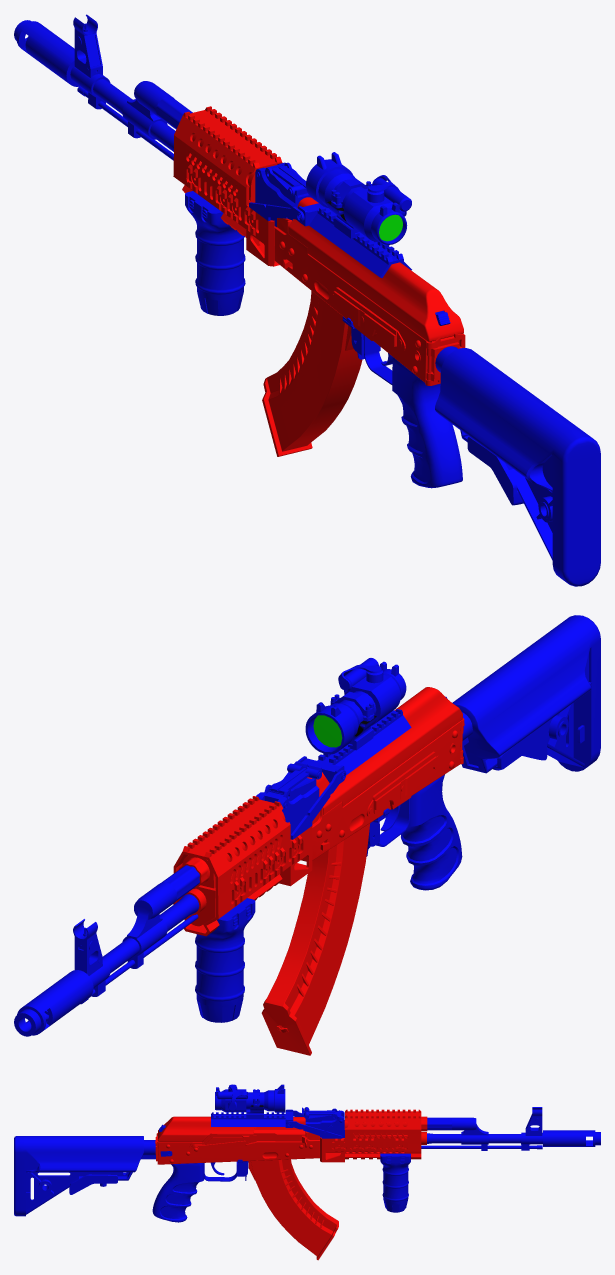
Rendered from Rifle 1.fbx.
The picture shows the model from 3 angles, top to bottom: view 1: azimuth 30°, elevation 25°; view 2: azimuth 150°, elevation 25°; view 3: azimuth 270°, elevation 25°; orthographic projection. The views are drawn at different scales.
Visible parts, largest first — view 1: Stock_Main1, Magazine1, Cage, Receiver_Cover, Main_Grip, Foregrip_Main, Main_Receiver2, Scope, Barrel_Upper, Muzzle, Scope_Holder, Ironsight_Front (+5 smaller); view 2: Stock_Main1, Magazine1, Cage, Foregrip_Main, Receiver_Cover, Main_Grip, Main_Receiver2, Scope, Barrel_Upper, Muzzle, Scope_Holder, Ironsight_Front (+12 smaller); view 3: Stock_Main1, Magazine1, Cage, Main_Receiver2, Main_Grip, Receiver_Cover, Foregrip_Main, Barrel_Upper, Scope, Muzzle, Stock_Separator, Scope_Holder (+12 smaller).
Part boxes in pixels (box(x1,y1,x2,y2)): Stock_Main1: box(435, 348, 600, 586); Magazine1: box(262, 291, 362, 456); Cage: box(173, 110, 282, 266); Receiver_Cover: box(288, 197, 463, 341); Main_Grip: box(392, 357, 462, 488); Foregrip_Main: box(185, 191, 245, 315); Main_Receiver2: box(274, 218, 464, 382); Scope: box(306, 159, 407, 244); Barrel_Upper: box(122, 81, 192, 139); Muzzle: box(14, 20, 79, 86); Scope_Holder: box(298, 203, 411, 278); Ironsight_Front: box(70, 14, 110, 109); Stock_Main1: box(452, 615, 600, 773); Magazine1: box(261, 823, 369, 1055); Cage: box(173, 799, 312, 936); Foregrip_Main: box(184, 898, 255, 1022); Receiver_Cover: box(307, 687, 462, 814); Main_Grip: box(401, 774, 462, 890); Main_Receiver2: box(301, 721, 460, 861); Scope: box(305, 669, 406, 754); Barrel_Upper: box(122, 865, 199, 968); Muzzle: box(14, 970, 93, 1036); Scope_Holder: box(298, 710, 411, 783); Ironsight_Front: box(73, 919, 110, 996); Stock_Main1: box(14, 1136, 143, 1216); Magazine1: box(248, 1159, 338, 1260); Cage: box(320, 1111, 421, 1162); Main_Receiver2: box(158, 1131, 319, 1164); Main_Grip: box(152, 1163, 204, 1222); Receiver_Cover: box(158, 1116, 305, 1142); Foregrip_Main: box(380, 1153, 410, 1212); Barrel_Upper: box(427, 1117, 488, 1150); Scope: box(215, 1089, 285, 1112); Muzzle: box(543, 1130, 600, 1146); Stock_Separator: box(26, 1172, 128, 1209); Scope_Holder: box(211, 1109, 293, 1127).
Bounding box in the file's own units: 7.02 × 28.28 × 88.34.
